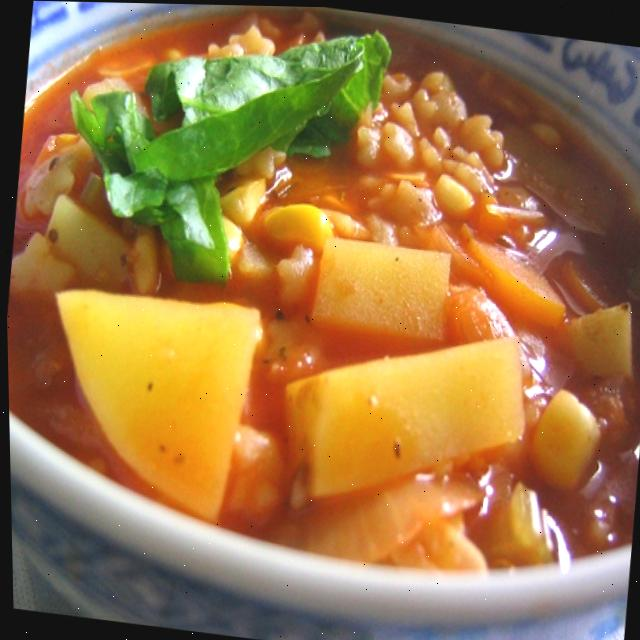汤锅炖物: (0, 0, 640, 626)
